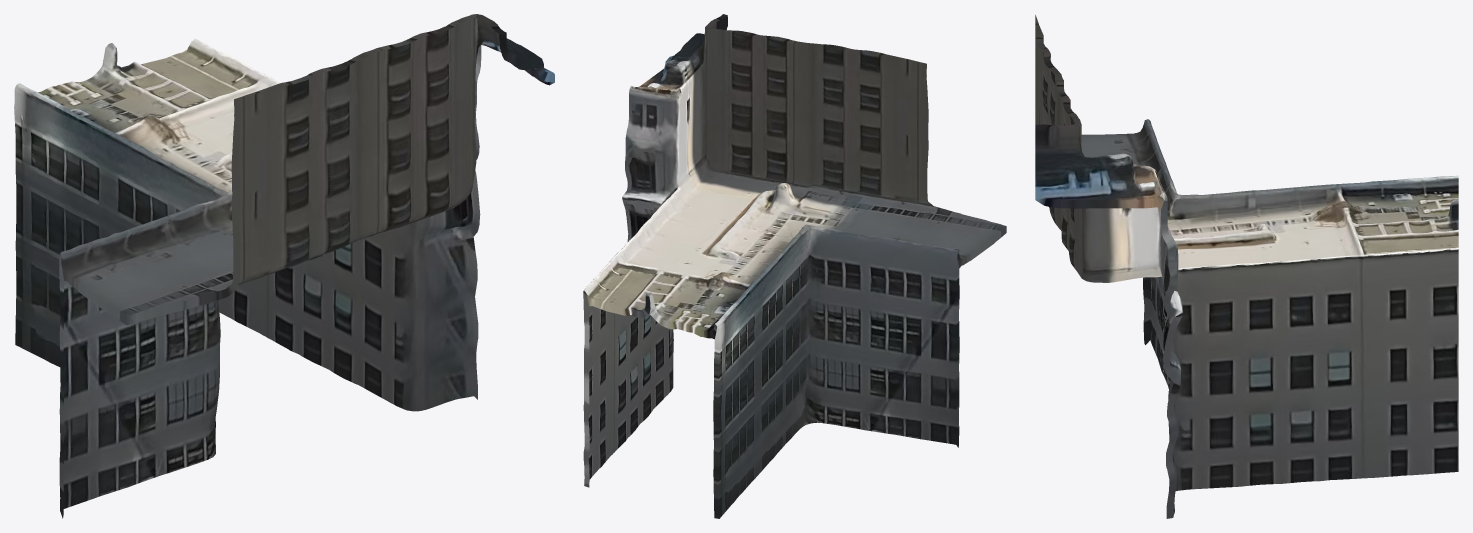
The model's file is z20-167767-405235-h1-yup-uvflip-v3-world.glb.
3 views of the same model, side by side, from view 1: azimuth 30°, elevation 25°; view 2: azimuth 150°, elevation 25°; view 3: azimuth 270°, elevation 25° (orthographic). The views are drawn at different scales.
Size of the model in its own units: 30.16 by 29.72 by 30.32.
Materials: 1 (1 with a texture image).
